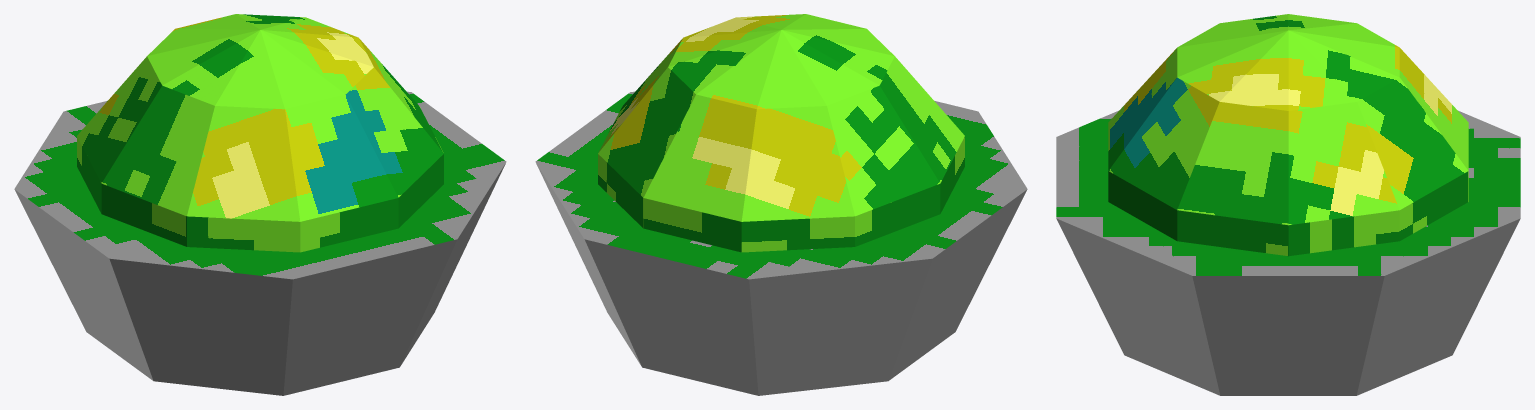
Rendered from FoodStandIn.gltf.
3 renders of one model, left to right at view 1: azimuth 30°, elevation 25°; view 2: azimuth 150°, elevation 25°; view 3: azimuth 270°, elevation 25°, orthographic.
Visible parts, largest first — view 1: sphere; view 2: sphere; view 3: sphere.
Boxes of the visible parts, x1,y1,x2,y2 form: sphere: (14, 14, 506, 395); sphere: (535, 14, 1027, 395); sphere: (1056, 14, 1520, 395).
Size of the model in its own units: 1.25 by 1.06 by 1.25.
Materials: 1 (1 with a texture image).
